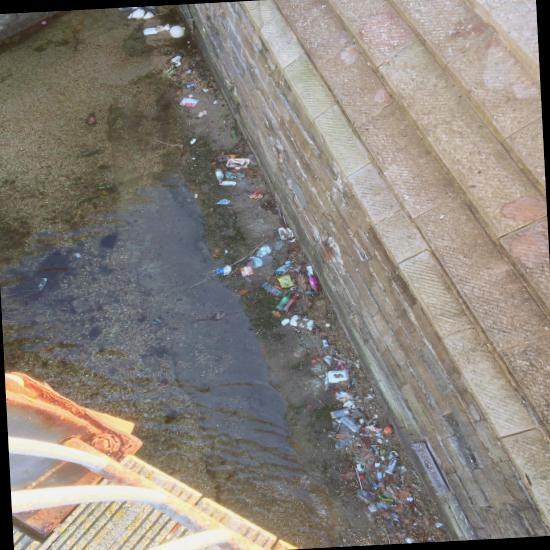Clear plastic bottle: (276, 292, 292, 310), (283, 296, 298, 311), (218, 154, 239, 162), (308, 276, 318, 292), (248, 152, 258, 165), (215, 169, 223, 184), (144, 6, 157, 11)
Drink can: (38, 278, 49, 291), (97, 184, 113, 190), (39, 38, 50, 44), (88, 117, 95, 126)
Other plastic: (322, 355, 347, 370), (274, 261, 292, 275), (277, 275, 294, 288), (180, 98, 199, 107), (249, 190, 263, 201), (240, 266, 254, 277)
Other plastic bottle: (378, 495, 394, 502), (383, 427, 393, 434), (390, 451, 398, 457), (165, 24, 170, 30)
Other plastic container: (339, 416, 362, 434)
Paper cup: (171, 56, 181, 62)
Plastic bottle cap: (359, 475, 364, 479), (363, 436, 368, 440), (361, 443, 365, 447), (374, 482, 378, 485), (370, 448, 373, 452), (358, 425, 361, 427)
Plastic film: (261, 282, 282, 296), (247, 256, 263, 268), (118, 7, 144, 11)
Plastic lid: (330, 411, 336, 419), (311, 360, 316, 363)
Plastic straw: (356, 468, 363, 490), (283, 216, 288, 228), (218, 112, 224, 122), (277, 204, 281, 218)
Unlabeled litter: (290, 315, 314, 330), (328, 370, 349, 383), (384, 458, 399, 474), (364, 423, 381, 436), (278, 227, 294, 240), (256, 244, 272, 257), (127, 9, 145, 20), (335, 391, 353, 402), (170, 26, 185, 38), (224, 171, 245, 179), (334, 408, 350, 418), (81, 148, 97, 157), (144, 27, 158, 35), (150, 317, 161, 326), (368, 503, 377, 513), (143, 11, 154, 19), (343, 400, 354, 408), (219, 181, 236, 186), (164, 68, 174, 75), (197, 110, 207, 117), (224, 265, 231, 275), (306, 266, 313, 276), (217, 199, 230, 204), (155, 26, 165, 32), (378, 503, 388, 509), (187, 81, 195, 88), (322, 339, 329, 347), (325, 371, 329, 385), (356, 464, 363, 471), (281, 319, 289, 325), (351, 377, 357, 385), (377, 472, 382, 481), (405, 538, 414, 543), (436, 522, 443, 528), (217, 268, 225, 273), (186, 68, 192, 74), (190, 138, 196, 144), (352, 404, 358, 409), (288, 239, 295, 243), (304, 291, 313, 294), (380, 450, 385, 455), (359, 418, 363, 424), (188, 94, 193, 98), (213, 100, 218, 104), (375, 463, 380, 467), (381, 456, 385, 461), (203, 89, 209, 92), (194, 194, 198, 198), (326, 323, 330, 327), (225, 250, 228, 254)
